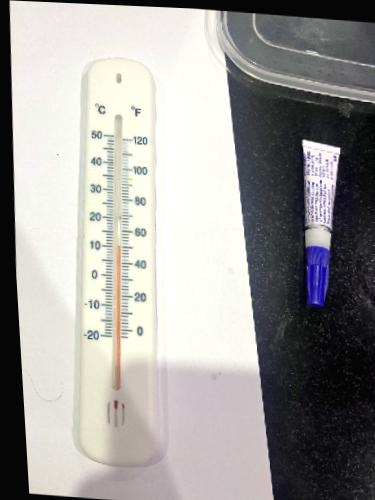thermo: (74, 61, 175, 457)
